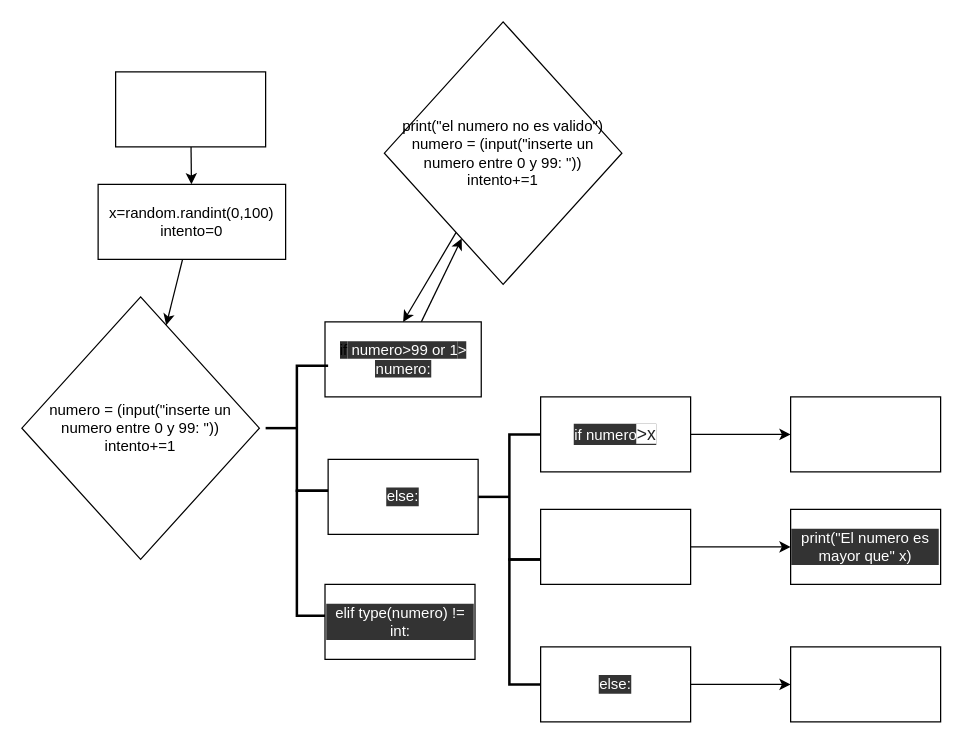
Some shapes in this 963 by 744 pixel diagram are drawn without their labels. Each missing label, with the box of its shape:
elif x >numero: (539, 508, 691, 584)
import random: (114, 71, 266, 147)
print("Acertaste"): (789, 646, 941, 722)
print("El numero es menor que", x): (789, 396, 941, 472)
